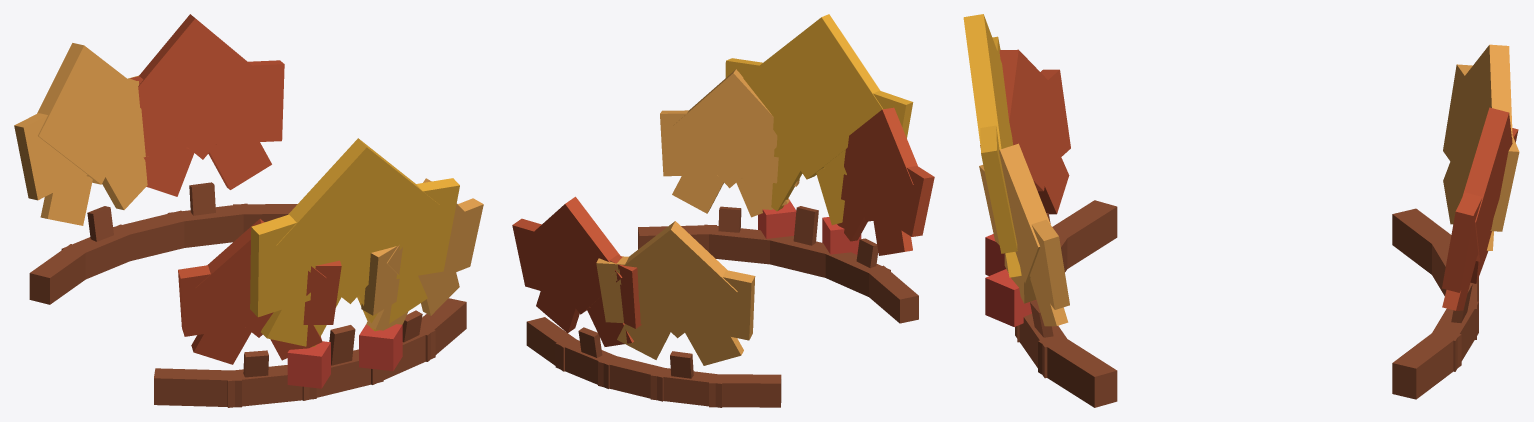
Rendered from CatCafe_Accessory_LeafCrown.glb.
3 views of the same model, side by side, from view 1: azimuth 30°, elevation 25°; view 2: azimuth 150°, elevation 25°; view 3: azimuth 270°, elevation 25° (orthographic). The views are drawn at different scales.
Visible parts, largest first — view 1: CatCafe_Accessory_LeafCrown; view 2: CatCafe_Accessory_LeafCrown; view 3: CatCafe_Accessory_LeafCrown.
Boxes of the visible parts, x1,y1,x2,y2 form: CatCafe_Accessory_LeafCrown: (14, 14, 483, 407); CatCafe_Accessory_LeafCrown: (512, 14, 934, 407); CatCafe_Accessory_LeafCrown: (963, 14, 1519, 407).
Size of the model in its own units: 0.6119 by 0.493 by 0.8131.
1 material, 1 textured.
